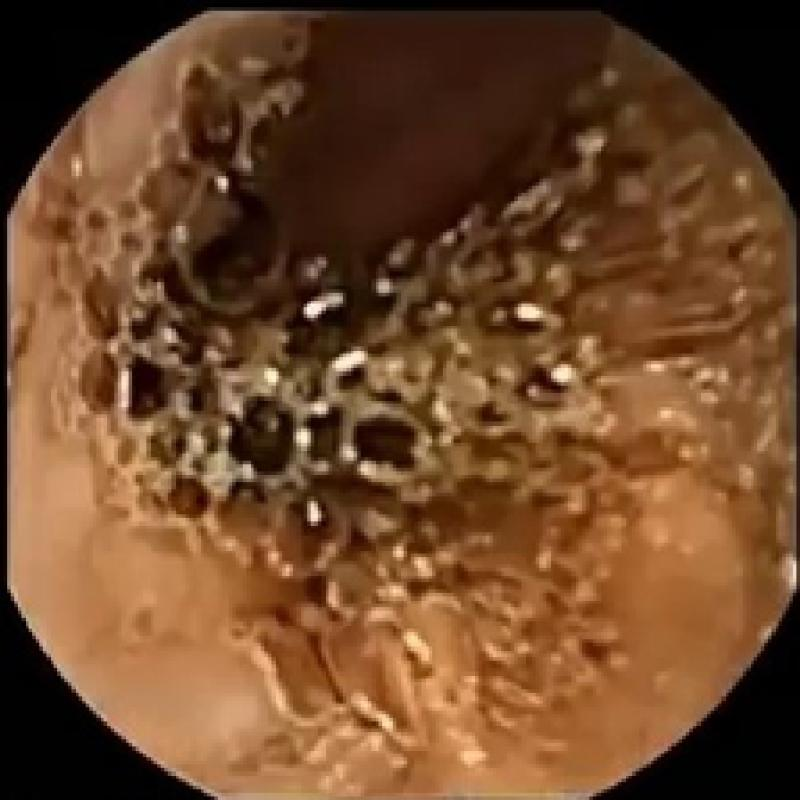bleeding: (121, 36, 561, 514)
